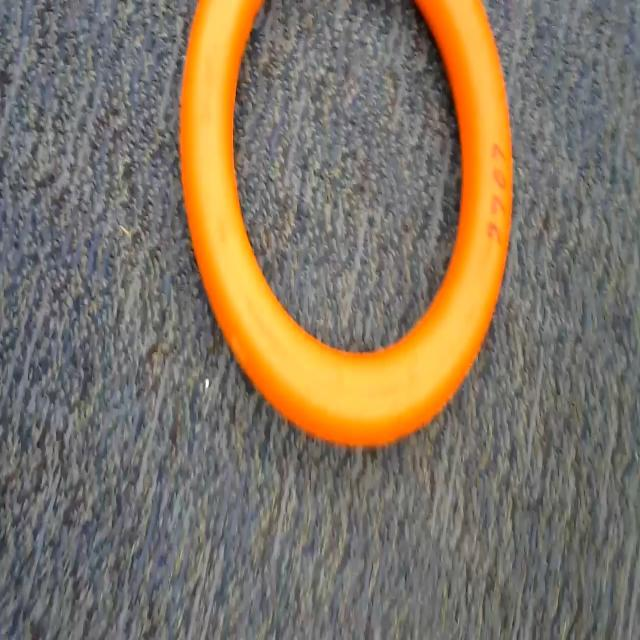note: (170, 0, 534, 472)
